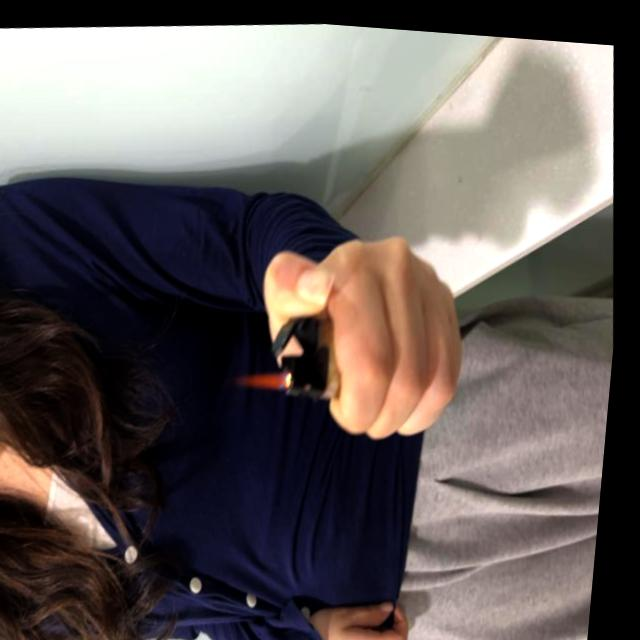Fire: (237, 361, 300, 388)
